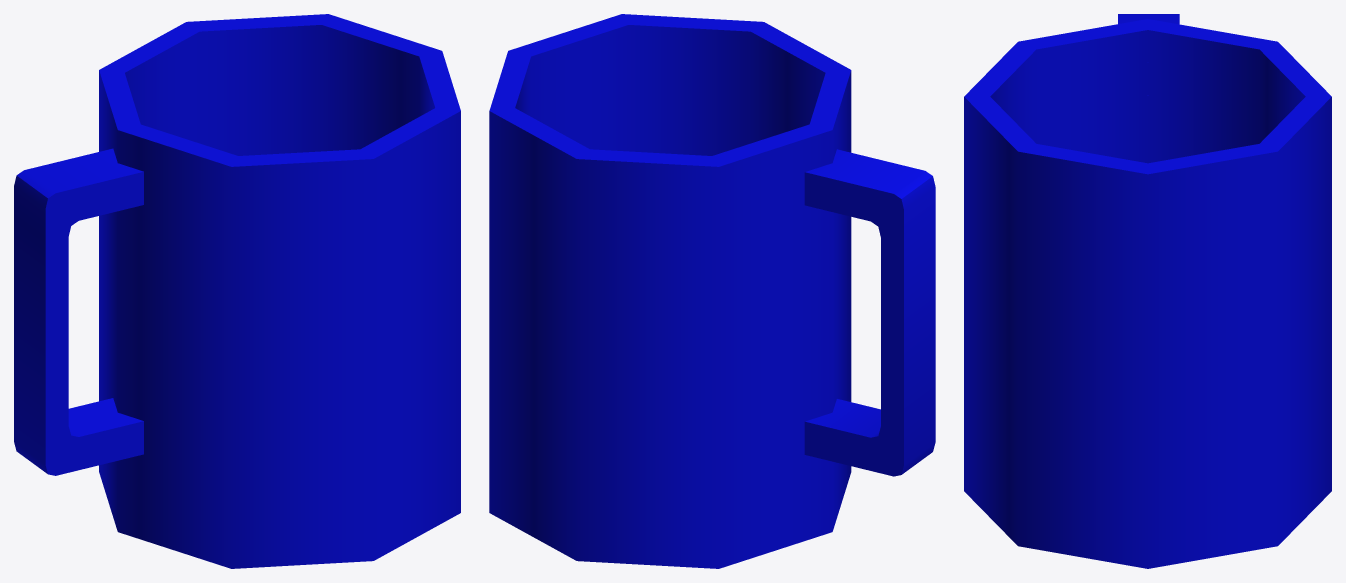
File: CoffeeCup.FBX
3 views of the same model, side by side, from view 1: azimuth 30°, elevation 25°; view 2: azimuth 150°, elevation 25°; view 3: azimuth 270°, elevation 25° (orthographic).
Parts seen in each view (by area): view 1: CoffeeCup; view 2: CoffeeCup; view 3: CoffeeCup.
Part boxes in pixels (x1,y1,x2,y2): CoffeeCup: (14,14,460,568); CoffeeCup: (489,14,935,568); CoffeeCup: (964,14,1331,568).
Bounding box in the file's own units: 2.84 × 2.65 × 2.24.
